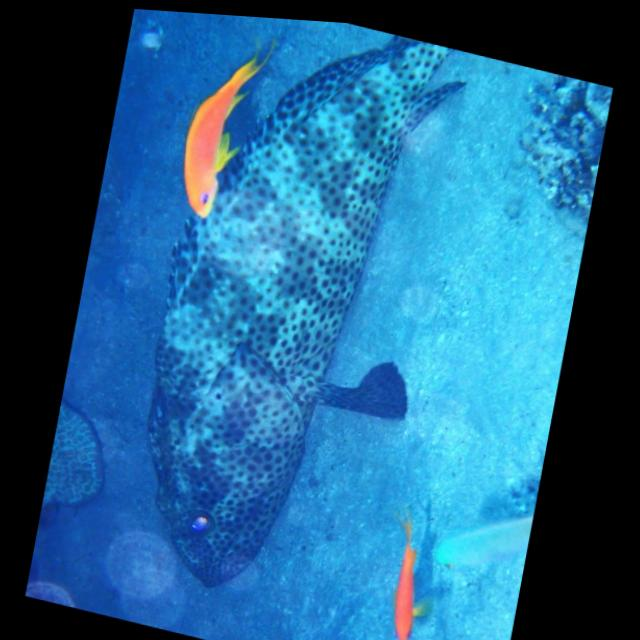Groupers: (111, 8, 470, 631)
